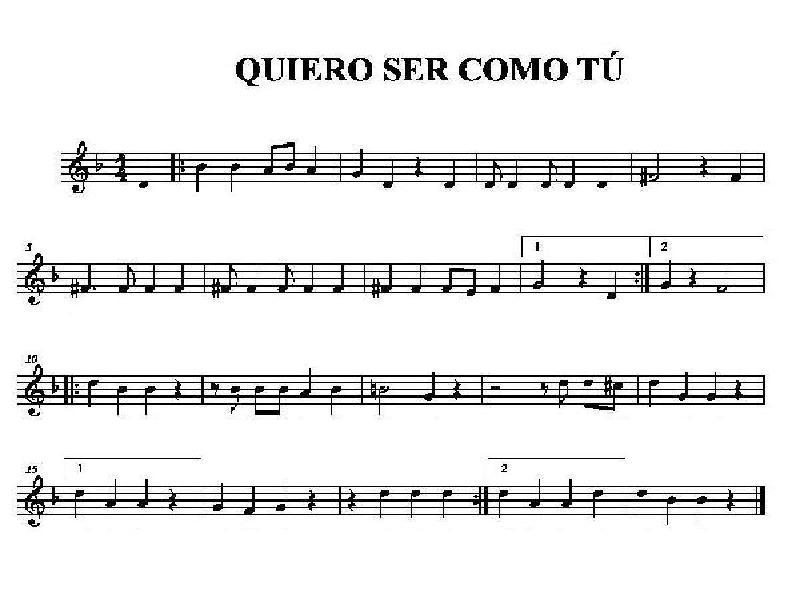B: (379, 383, 394, 418), (651, 153, 662, 184)
Bem: (49, 486, 62, 508), (50, 264, 61, 282), (51, 373, 60, 395), (94, 152, 103, 173)
C: (481, 157, 505, 187), (270, 384, 290, 418), (118, 265, 138, 296), (611, 378, 628, 414), (278, 263, 297, 295), (543, 158, 560, 191), (440, 266, 457, 298), (463, 265, 479, 299), (283, 139, 298, 175), (221, 263, 239, 293), (261, 145, 278, 176), (230, 381, 246, 413), (557, 377, 572, 411), (252, 382, 265, 417)
CS: (67, 139, 92, 195), (22, 252, 47, 307), (23, 475, 46, 528), (25, 364, 45, 420)
N: (352, 148, 371, 181), (382, 157, 399, 191), (115, 383, 131, 419), (73, 490, 91, 521), (306, 143, 321, 180), (302, 265, 319, 296), (211, 481, 226, 516), (327, 386, 344, 416), (136, 475, 150, 510), (140, 383, 154, 417), (79, 263, 94, 294), (228, 163, 244, 192), (195, 160, 209, 193), (174, 263, 188, 296), (104, 477, 119, 507), (591, 488, 605, 520), (85, 378, 100, 407), (443, 160, 458, 189), (528, 479, 543, 508), (375, 489, 391, 516), (146, 265, 159, 298), (334, 263, 348, 293), (667, 495, 679, 529), (409, 487, 422, 518), (565, 161, 578, 191), (497, 488, 509, 517)
R: (713, 282, 729, 295)
SN: (578, 262, 593, 291), (305, 487, 321, 513), (166, 486, 180, 514), (726, 487, 739, 517), (346, 487, 360, 514), (453, 379, 466, 402), (686, 266, 698, 290), (698, 156, 709, 182), (174, 378, 184, 400)
